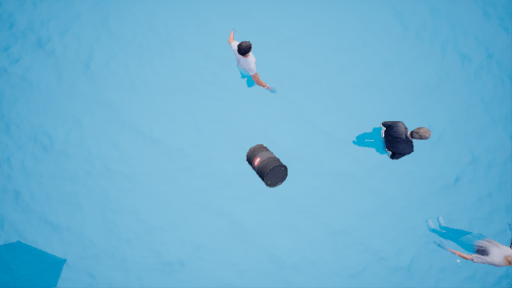person: (423, 219, 512, 272), (349, 123, 440, 167), (227, 32, 280, 90)
